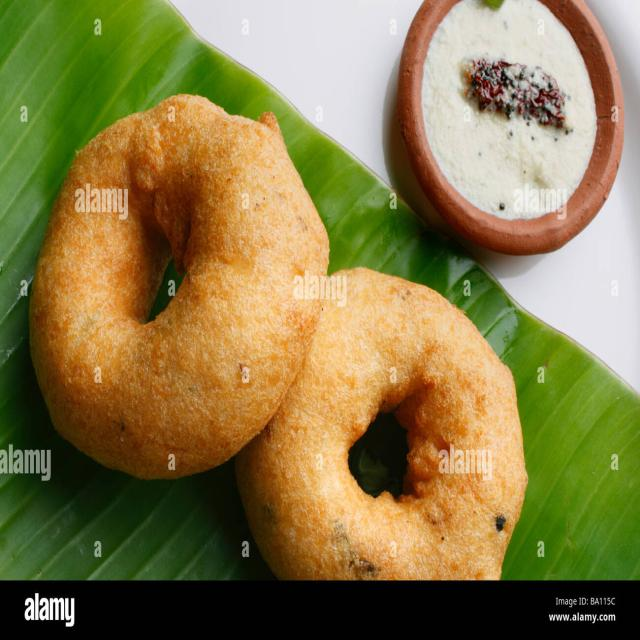MEDU VADA: (30, 93, 528, 581)
